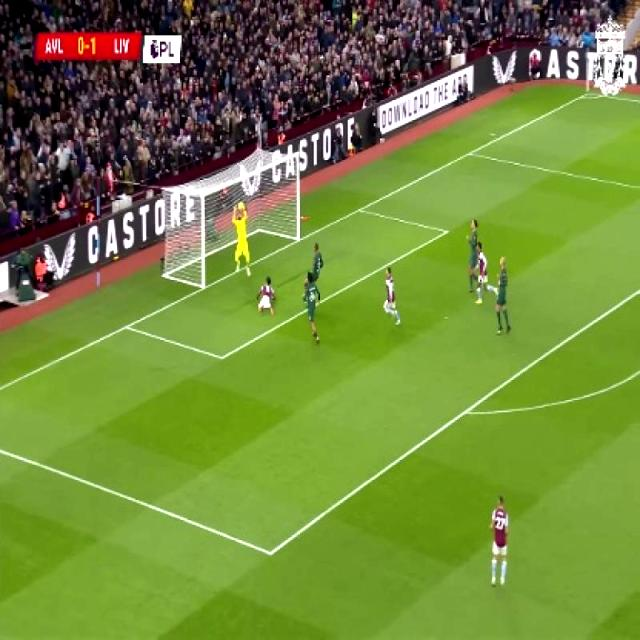bigarea_bottom_inner: (256, 536, 282, 568)
bigarea_top_outter: (460, 142, 478, 162)
bottom_arc_area_intersection: (454, 395, 476, 425)
corner: (575, 86, 597, 102)
smallarea_bottom_inner: (210, 340, 232, 372)
smallarea_bottom_outter: (115, 312, 137, 338)
smallarea_top_inner: (437, 218, 455, 242)
smallarea_top_outter: (349, 198, 368, 220)
